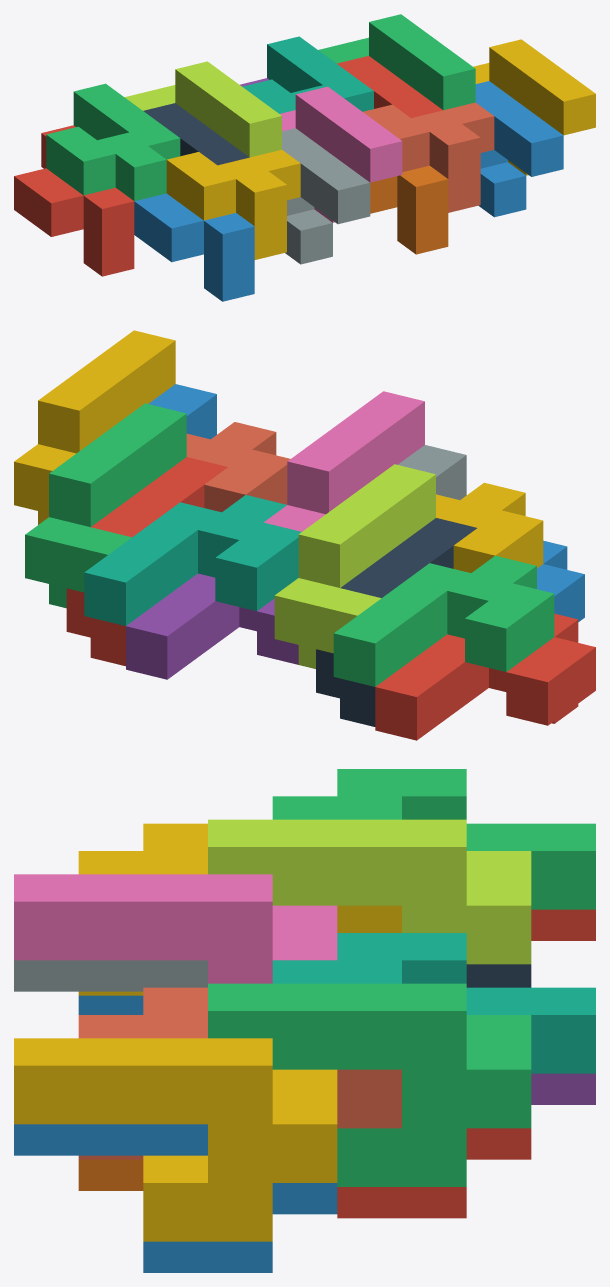
The model's file is tiling.obj.
3 views of the same model, one above another, from view 1: azimuth 30°, elevation 25°; view 2: azimuth 150°, elevation 25°; view 3: azimuth 270°, elevation 25° (orthographic). The views are drawn at different scales.
Visible parts, largest first — view 1: copy_1_domain_3, copy_1_domain_4, copy_1_domain_1, copy_1_domain_2, copy_1_domain_8, copy_2_domain_6, copy_2_domain_2, copy_2_domain_7, copy_2_domain_3, copy_2_domain_4, copy_2_domain_8, copy_1_domain_7 (+3 smaller); view 2: copy_1_domain_3, copy_1_domain_7, copy_2_domain_3, copy_2_domain_7, copy_1_domain_1, copy_2_domain_8, copy_2_domain_4, copy_1_domain_5, copy_2_domain_5, copy_2_domain_1, copy_1_domain_4, copy_1_domain_8 (+3 smaller); view 3: copy_2_domain_8, copy_2_domain_7, copy_2_domain_3, copy_2_domain_4, copy_1_domain_3, copy_1_domain_7, copy_2_domain_6, copy_1_domain_8, copy_1_domain_4, copy_2_domain_5, copy_2_domain_2, copy_1_domain_6 (+4 smaller).
Part boxes in pixels (bbox=[...]): copy_1_domain_3: bbox=[46, 83, 180, 201]; copy_1_domain_4: bbox=[166, 149, 300, 259]; copy_1_domain_1: bbox=[14, 125, 134, 276]; copy_1_domain_2: bbox=[134, 193, 254, 301]; copy_1_domain_8: bbox=[363, 102, 494, 212]; copy_2_domain_6: bbox=[475, 81, 563, 217]; copy_2_domain_2: bbox=[282, 128, 370, 264]; copy_2_domain_7: bbox=[318, 14, 475, 110]; copy_2_domain_3: bbox=[124, 61, 281, 157]; copy_2_domain_4: bbox=[280, 86, 402, 222]; copy_2_domain_8: bbox=[473, 39, 595, 175]; copy_1_domain_7: bbox=[242, 36, 373, 113]; copy_1_domain_3: bbox=[333, 555, 554, 686]; copy_1_domain_7: bbox=[84, 495, 301, 625]; copy_2_domain_3: bbox=[274, 464, 435, 668]; copy_2_domain_7: bbox=[25, 403, 186, 608]; copy_1_domain_1: bbox=[375, 613, 595, 740]; copy_2_domain_8: bbox=[14, 330, 175, 524]; copy_2_domain_4: bbox=[263, 391, 424, 531]; copy_1_domain_5: bbox=[126, 573, 298, 679]; copy_2_domain_5: bbox=[66, 457, 227, 666]; copy_2_domain_1: bbox=[316, 518, 476, 726]; copy_1_domain_4: bbox=[436, 482, 543, 572]; copy_1_domain_8: bbox=[186, 422, 290, 512]; copy_2_domain_8: bbox=[14, 1038, 337, 1241]; copy_2_domain_7: bbox=[208, 983, 531, 1186]; copy_2_domain_3: bbox=[208, 819, 531, 964]; copy_2_domain_4: bbox=[14, 874, 337, 983]; copy_1_domain_3: bbox=[272, 769, 595, 909]; copy_1_domain_7: bbox=[272, 933, 595, 1073]; copy_2_domain_6: bbox=[14, 1124, 337, 1272]; copy_1_domain_8: bbox=[78, 987, 401, 1159]; copy_1_domain_4: bbox=[78, 823, 401, 995]; copy_2_domain_5: bbox=[337, 1128, 531, 1218]; copy_2_domain_2: bbox=[14, 960, 207, 991]; copy_1_domain_6: bbox=[78, 1159, 143, 1190].
Bounding box in the file's own units: 14 × 4 × 9.
